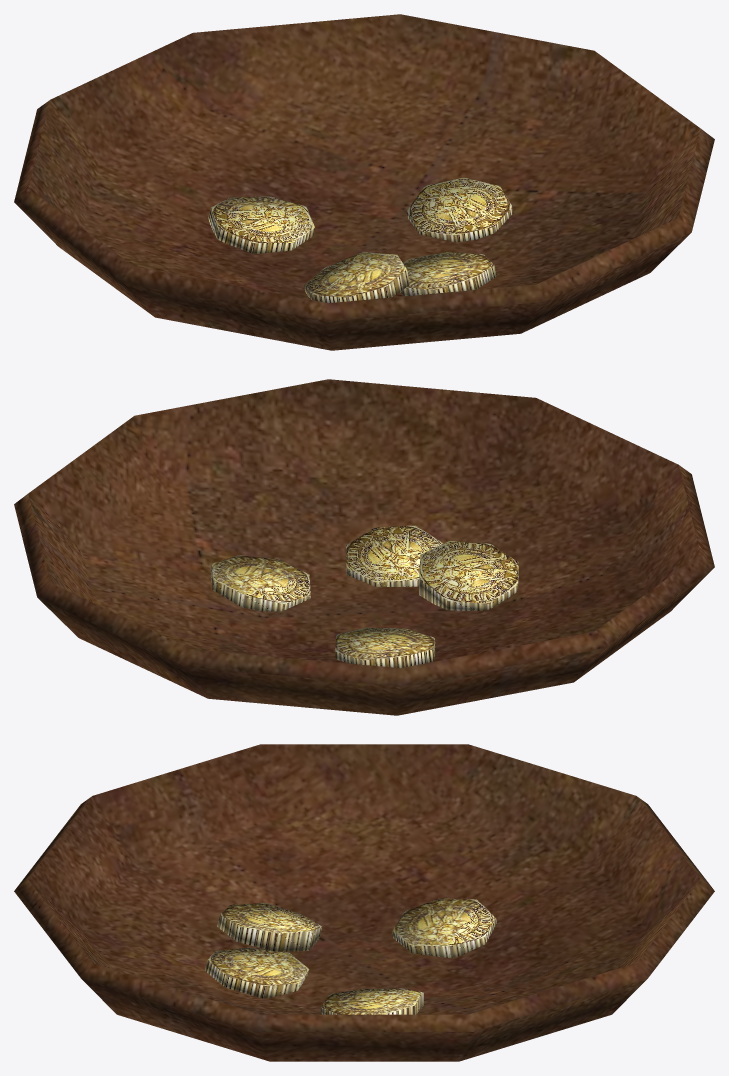
Rendered from KM_BEGGER_PLATE.glb.
The picture shows the model from 3 angles, top to bottom: view 1: azimuth 30°, elevation 25°; view 2: azimuth 150°, elevation 25°; view 3: azimuth 270°, elevation 25°; orthographic projection. The views are drawn at different scales.
Parts seen in each view (by area): view 1: Mesh; view 2: Mesh; view 3: Mesh.
Boxes of the visible parts, <box> form: Mesh: <box>14,14,714,350</box>; Mesh: <box>14,379,714,715</box>; Mesh: <box>14,744,714,1061</box>.
Size of the model in its own units: 0.3751 by 0.0627 by 0.3944.
Materials: 2 (2 with a texture image).
